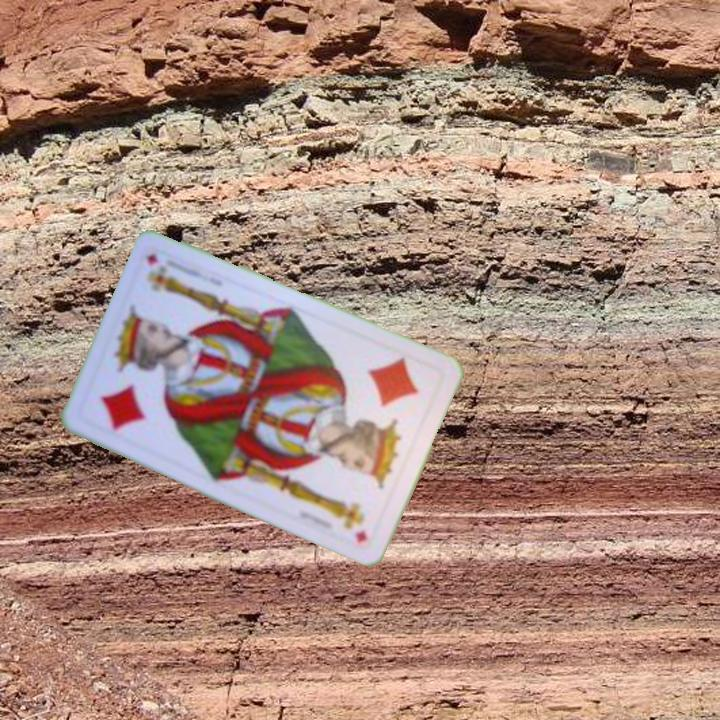d_k.png: (75, 331, 192, 455), (329, 338, 446, 462)
